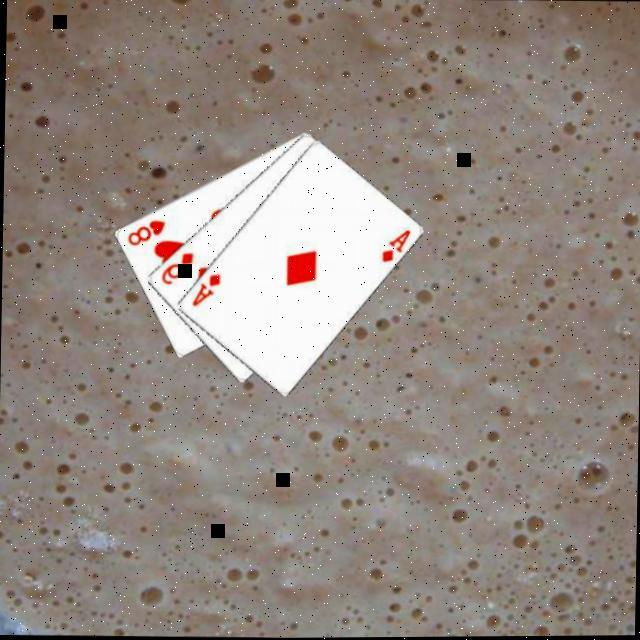6D: (158, 250, 197, 289)
8H: (124, 218, 169, 251)
AD: (378, 228, 414, 267), (189, 272, 224, 311)
